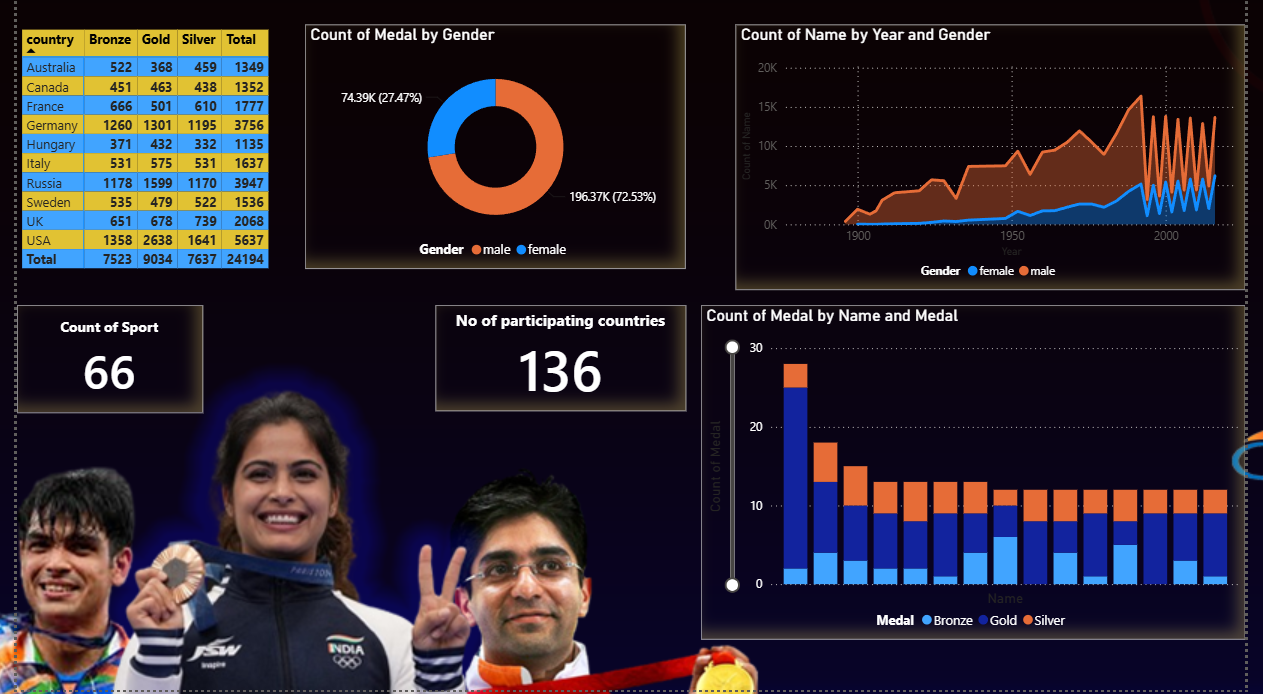

What the dashboard file says about the page in this screenshot:
{"tool":"powerbi","page":{"name":"Page 1","canvas":[1280,720],"ordinal":0},"visuals":[{"type":"donutChart","fields":{"Category":["athlete_events.Gender"],"Y":["CountNonNull(athlete_events.Medal)"]},"box":[300.1,26.6,397,254.8],"z":0},{"type":"pivotTable","fields":{"Rows":["athlete_events.country"],"Columns":["athlete_events.Medal"],"Values":["CountNonNull(athlete_events.Medal)"]},"box":[0,26.6,273.5,276.6],"z":2000},{"type":"columnChart","fields":{"Category":["athlete_events.Name"],"Y":["CountNonNull(athlete_events.Medal)"],"Series":["athlete_events.Medal"]},"box":[712.7,318.8,567.4,348.5],"z":3000},{"type":"stackedAreaChart","fields":{"Category":["athlete_events.Year"],"Y":["CountNonNull(athlete_events.Name)"],"Series":["athlete_events.Gender"]},"box":[748.7,26.6,531.4,276.6],"z":3001},{"type":"cardVisual","fields":{"Data":["Count(athlete_events.country)"]},"box":[436.1,318.8,261,111],"z":3002},{"type":"cardVisual","fields":{"Data":["Count(athlete_events.Sport)"]},"box":[0,318.8,193.8,112.5],"z":3003}]}

Visuals, with their boxes in screenshot pixels (x1, y1, x2, y2), scaled from the page's 1280x720 canvas onto the 1263x694 screenshot:
donutChart - athlete_events.Gender x CountNonNull(athlete_events.Medal): box(296, 26, 688, 271)
pivotTable - athlete_events.country x athlete_events.Medal: box(0, 26, 270, 292)
columnChart - athlete_events.Name x CountNonNull(athlete_events.Medal): box(703, 307, 1262, 643)
stackedAreaChart - athlete_events.Year x CountNonNull(athlete_events.Name): box(739, 26, 1262, 292)
cardVisual - Count(athlete_events.country): box(430, 307, 688, 414)
cardVisual - Count(athlete_events.Sport): box(0, 307, 191, 416)
